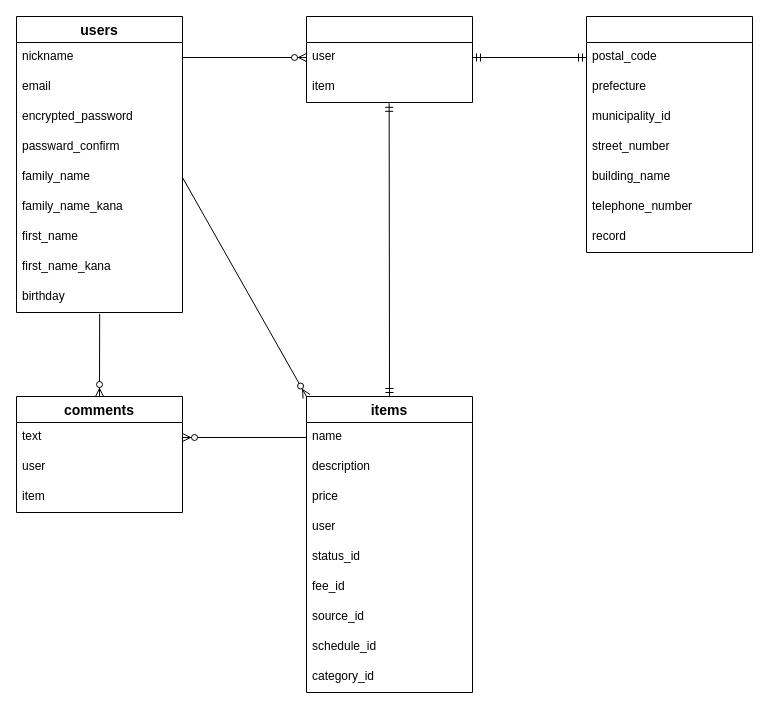
Image size: 769x709. Some labels were removed from this diagram. Each missing label, with the box of its shape:
records: (306, 16, 472, 102)
shipping_address: (586, 16, 752, 252)
